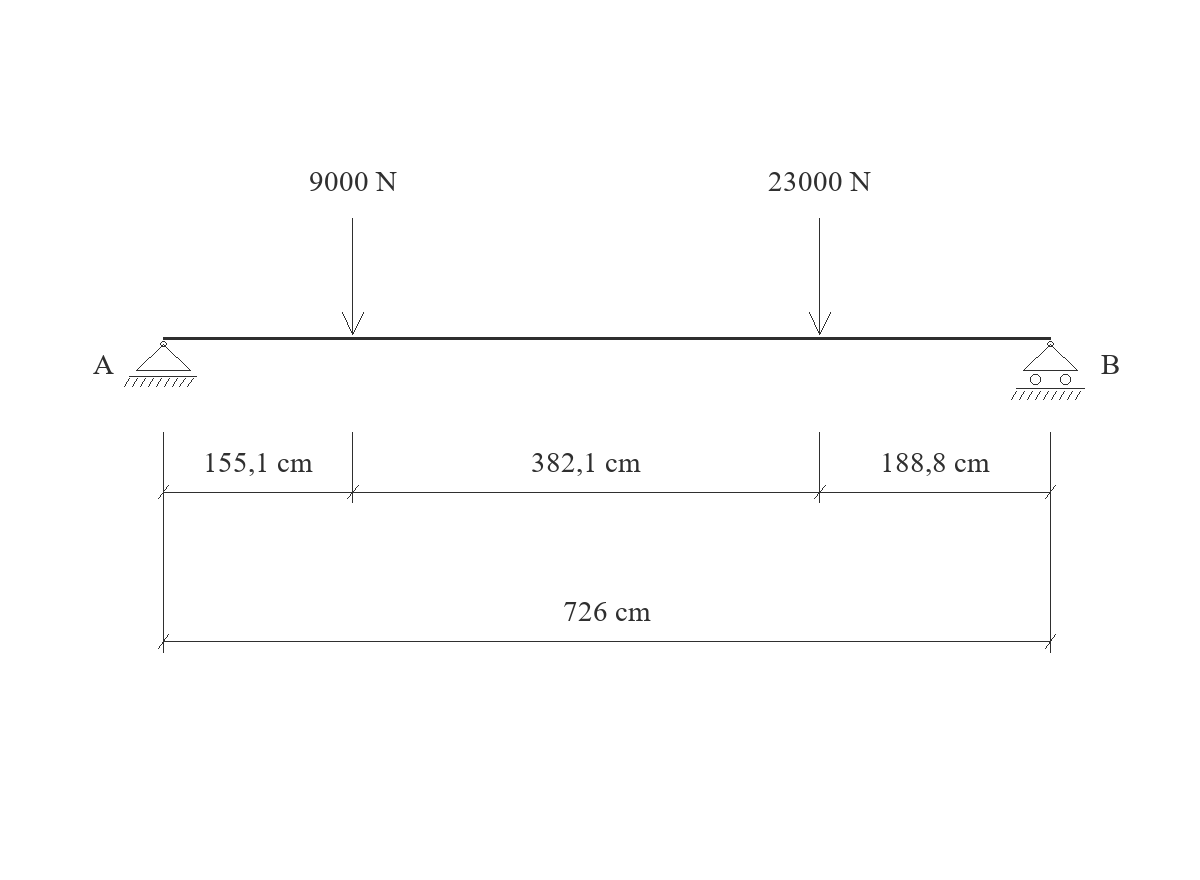pin_support: (124, 341, 197, 387)
point_load: (342, 218, 364, 335), (809, 218, 831, 335)
roller_support: (1011, 341, 1085, 400)
